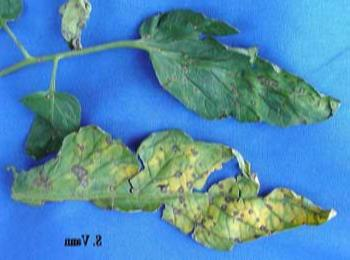Tomato Septoria leaf spot: (6, 121, 341, 256), (124, 5, 341, 139)
